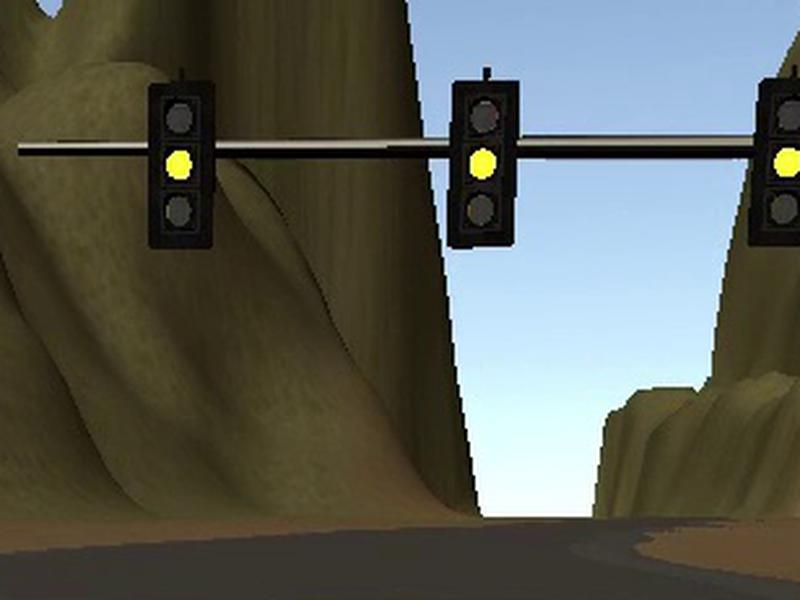Yellow: (446, 79, 520, 251), (146, 81, 215, 249), (747, 79, 800, 247)
